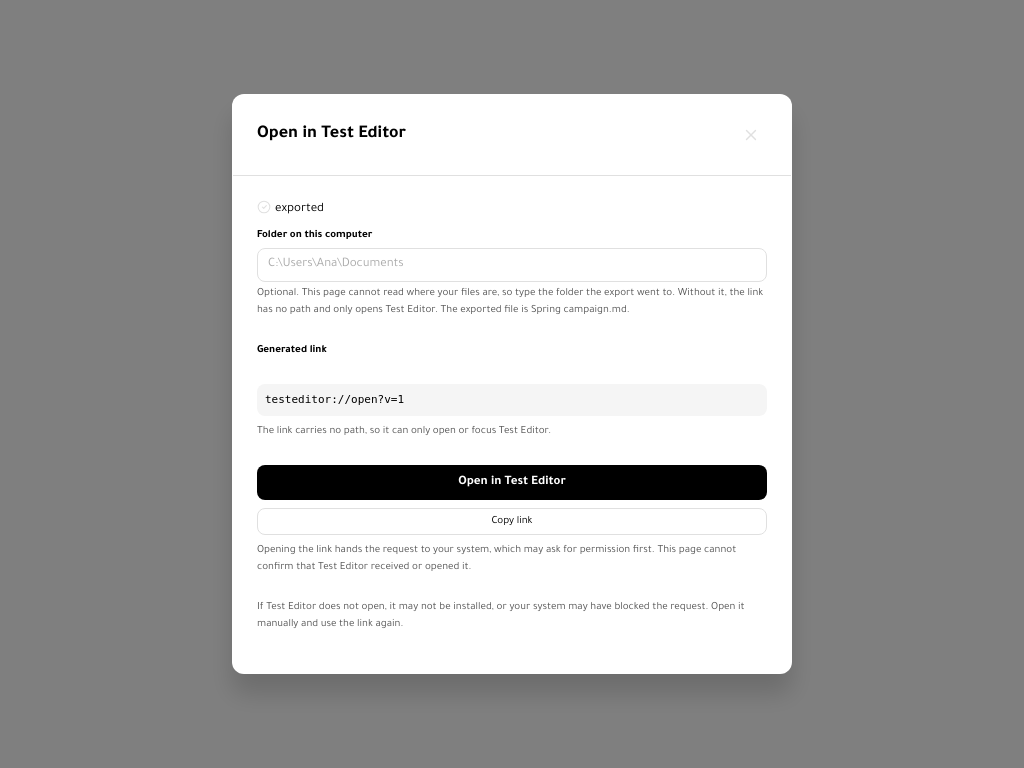
open in editor modal › refuses a folder that is not a local path and shows the code
Type "https://example.com/docs" into the field labelled "Folder on this computer" at (512, 265), box [257,248,767,282]
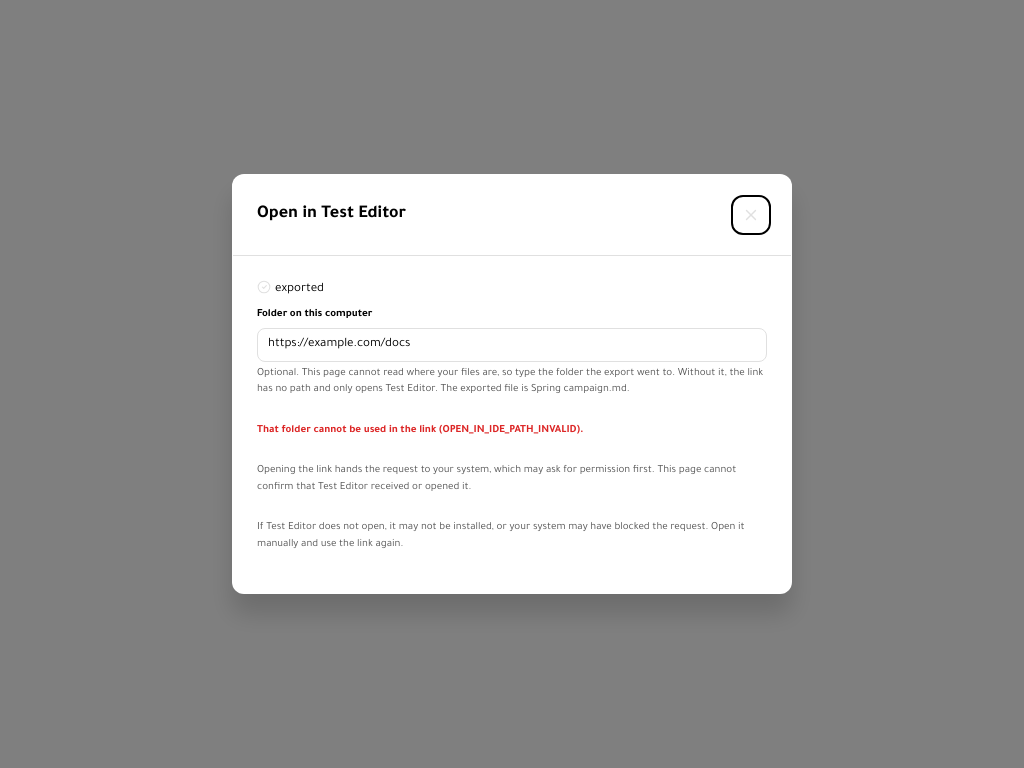
Check: the message shows "OPEN_IN_IDE_PATH_INVALID", box [257,425,584,436]
